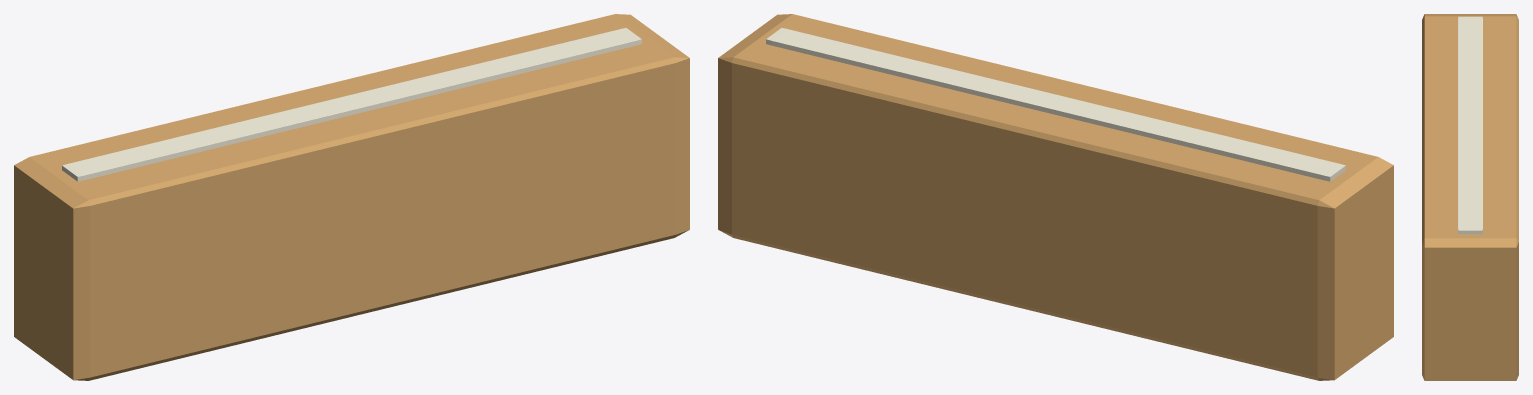
Rendered from border_2m.glb.
3 renders of one model, left to right at view 1: azimuth 30°, elevation 25°; view 2: azimuth 150°, elevation 25°; view 3: azimuth 270°, elevation 25°, orthographic. The views are drawn at different scales.
Visible parts, largest first — view 1: Perimeter rail.001, Rail inlay.001; view 2: Perimeter rail.001, Rail inlay.001; view 3: Perimeter rail.001, Rail inlay.001.
Boxes of the visible parts, x1,y1,x2,y2 form: Perimeter rail.001: (14, 14, 689, 380); Rail inlay.001: (62, 28, 641, 181); Perimeter rail.001: (718, 14, 1393, 380); Rail inlay.001: (766, 28, 1345, 181); Perimeter rail.001: (1422, 14, 1518, 380); Rail inlay.001: (1458, 16, 1482, 234).
Size of the model in its own units: 2 by 0.575 by 0.35.
